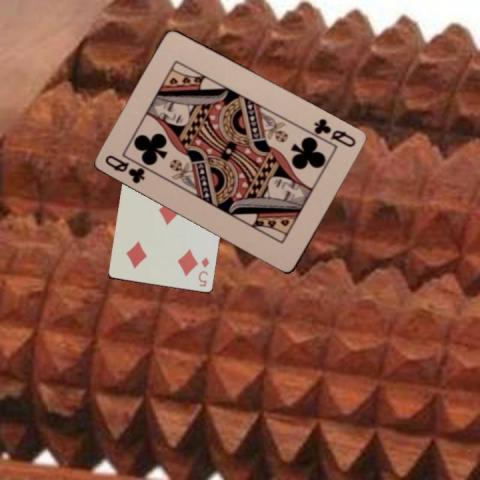5d: (195, 254, 211, 288)
Qc: (311, 115, 358, 149), (103, 152, 146, 185)
